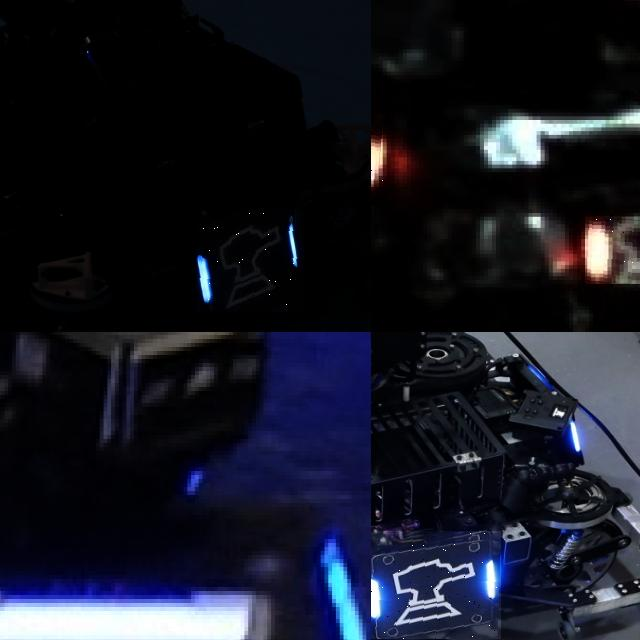Bs: (371, 530, 500, 639), (196, 210, 304, 312)
Rs: (585, 216, 640, 283)
